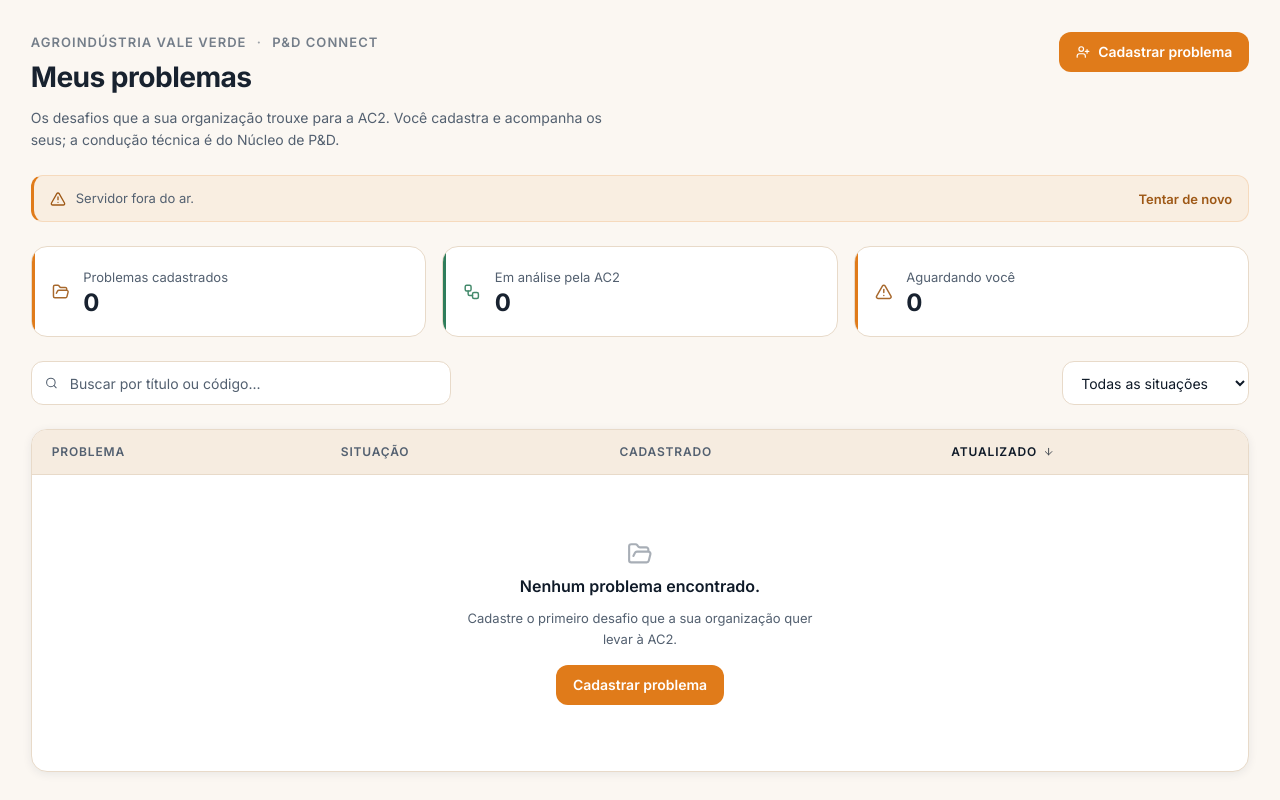
Test case: ProblemasPage › avisa e oferece nova tentativa quando a API falha
Check: the message shows "Servidor fora do ar.", box left=76, top=190, right=194, bottom=206
What coordinates should you click on to do the following:
click the button "Tentar de novo"
I would click on:
 (1185, 199)
Its box is left=1138, top=191, right=1232, bottom=207.
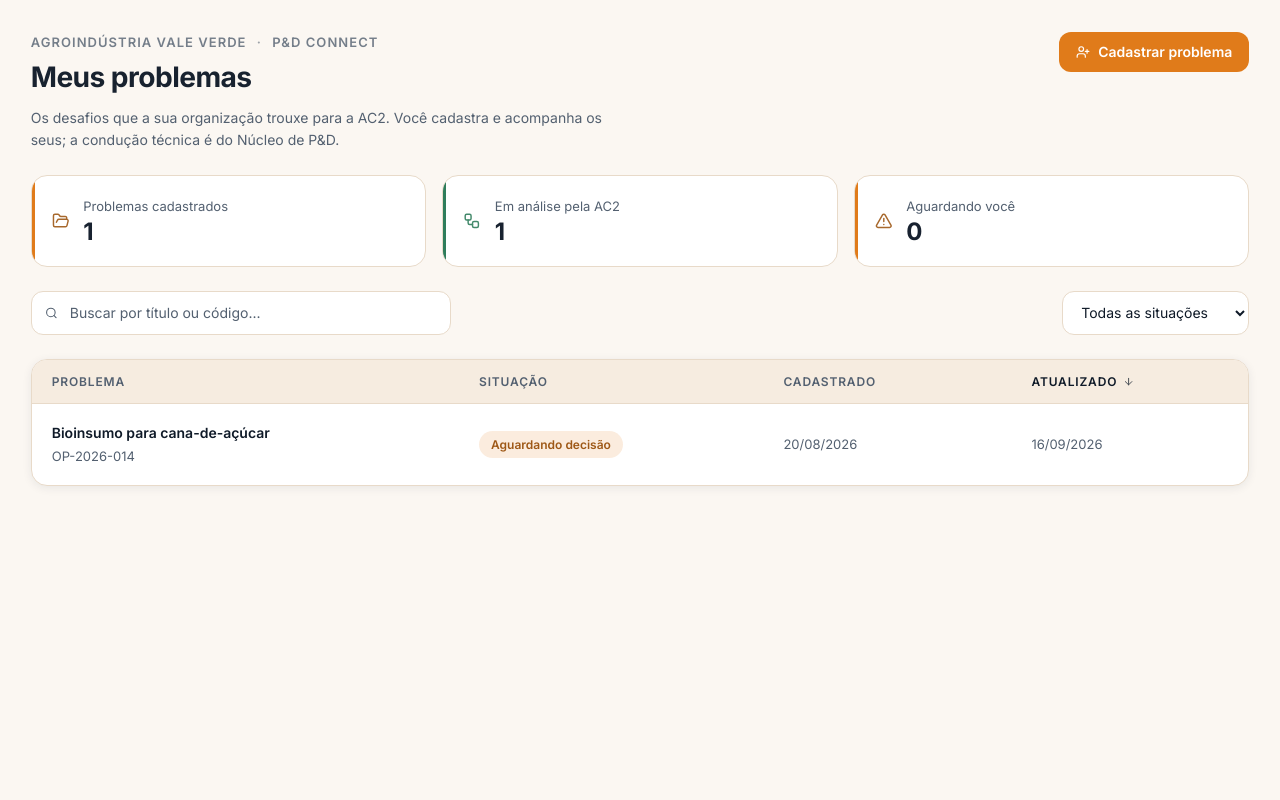
Check: the text "Bioinsumo para cana-de-açúcar" is shown, box left=52, top=424, right=270, bottom=441
